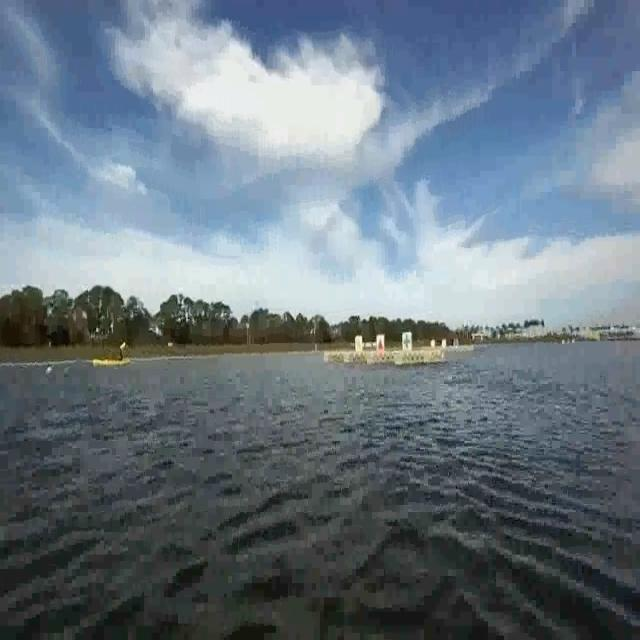blue-cross: (402, 332, 412, 352)
red-dot: (376, 334, 385, 356)
yellow-duck: (356, 335, 363, 357)
